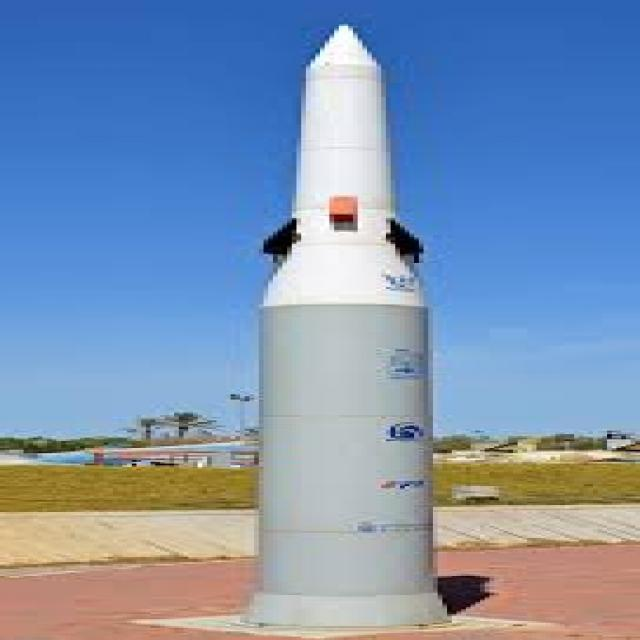Missile: (248, 19, 438, 638)
